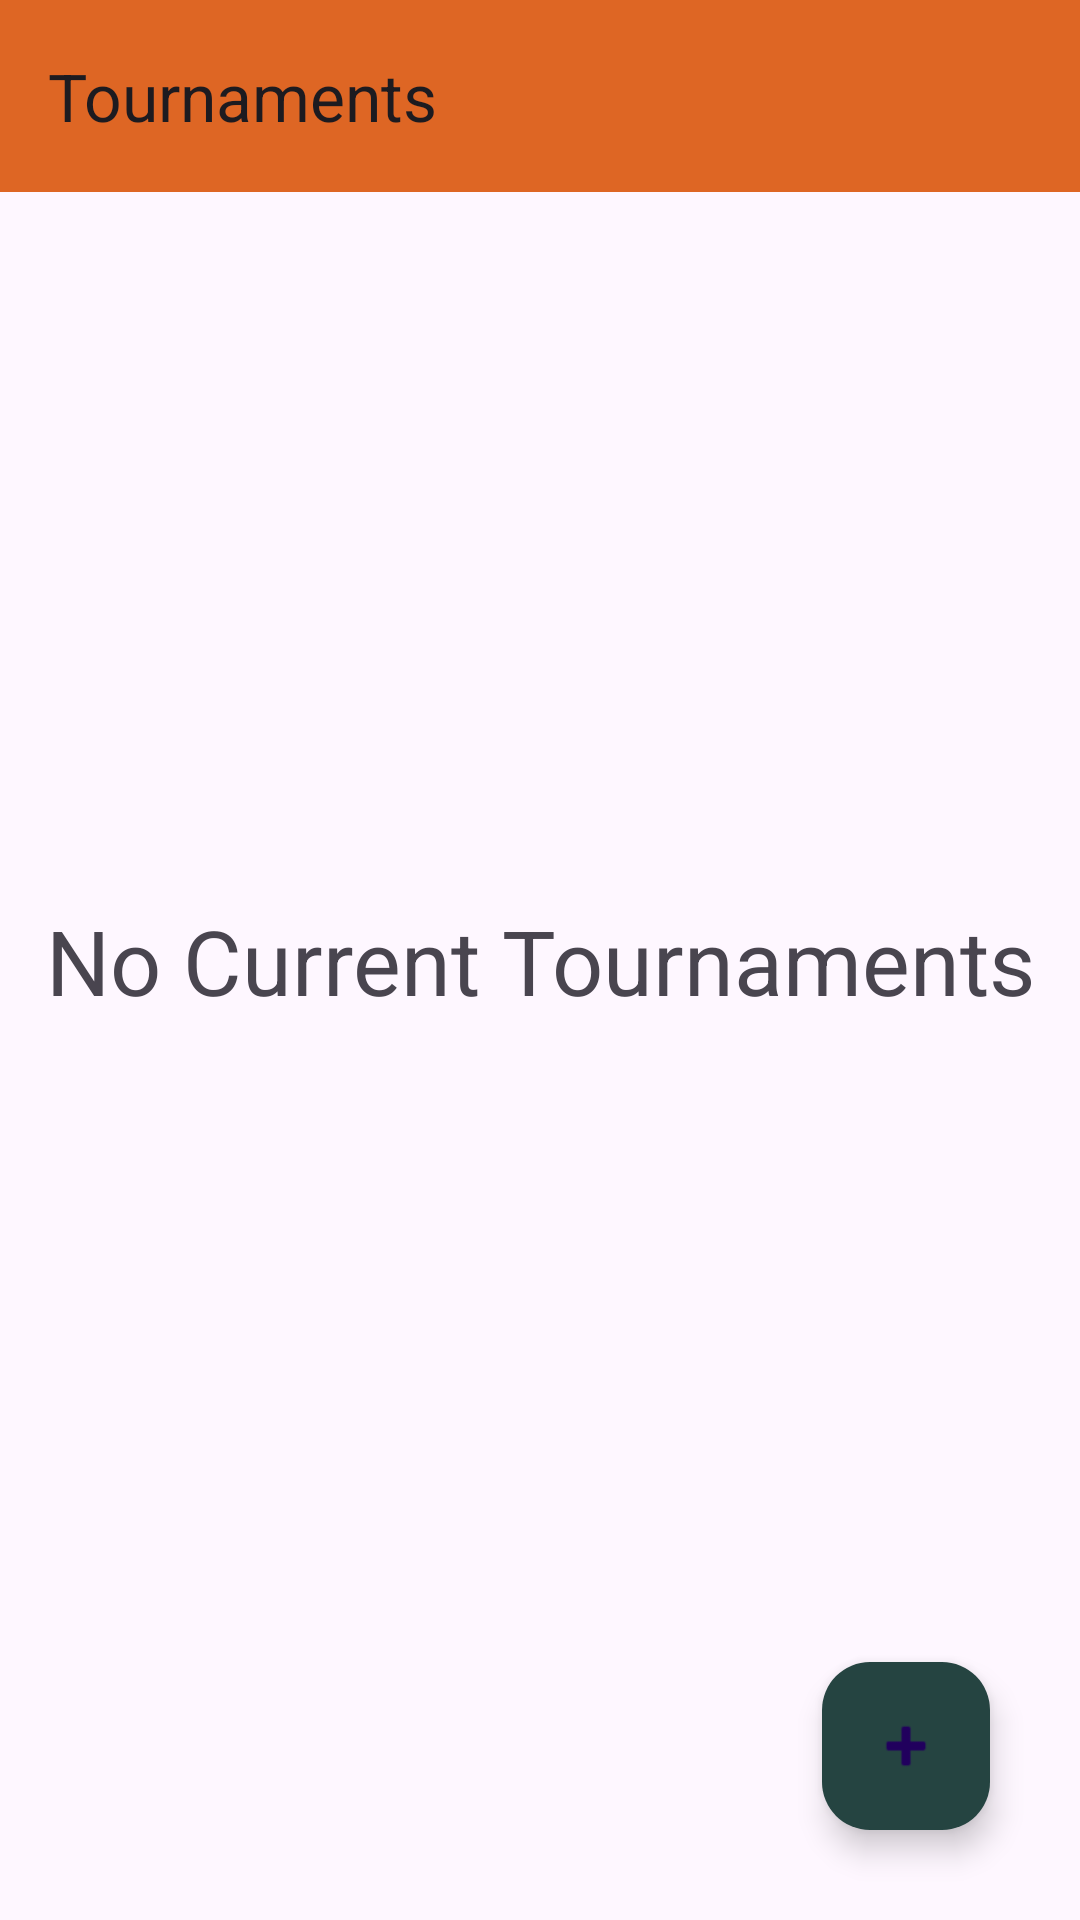

Where to tap for icons on this 1080x1920 app screen, as [x,y]:
add: [906,1746]
